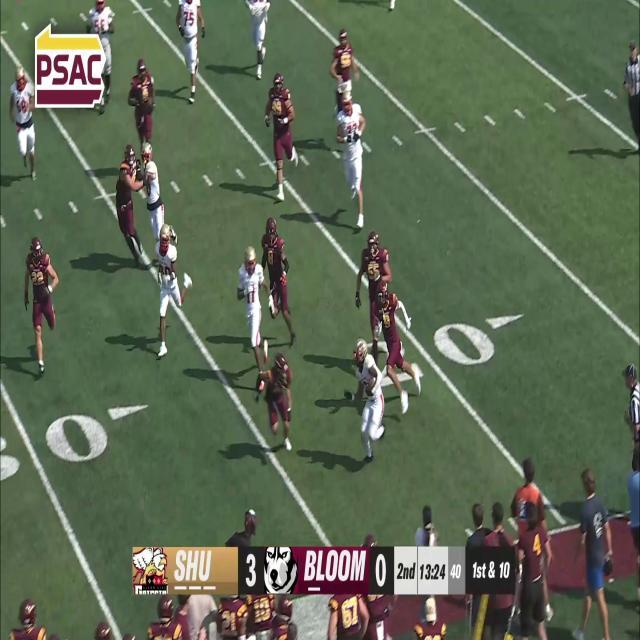football: (363, 378, 376, 398)
